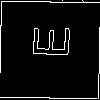E: (24, 24, 69, 59)
